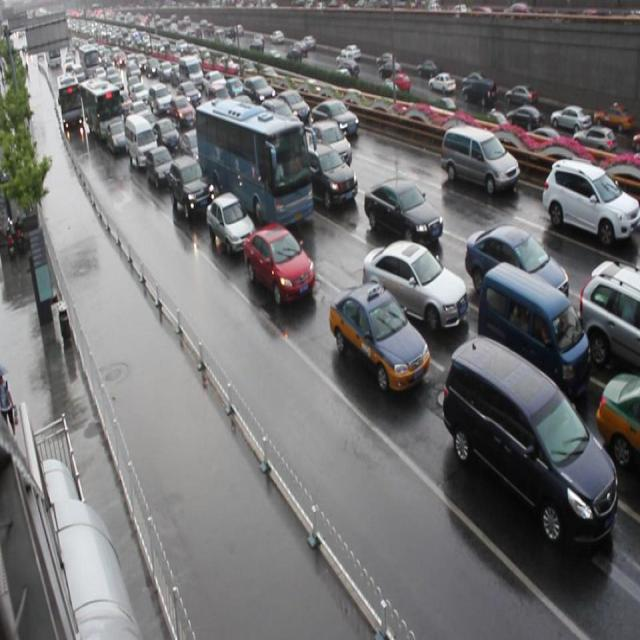car: (328, 282, 429, 392), (362, 239, 466, 331), (464, 224, 567, 309), (540, 157, 640, 244), (577, 260, 640, 374), (242, 224, 314, 303), (364, 178, 441, 245), (592, 372, 640, 468), (304, 144, 358, 207), (205, 190, 256, 253), (168, 154, 213, 218), (307, 119, 352, 170), (312, 98, 358, 139), (145, 146, 175, 190), (276, 87, 310, 123), (179, 129, 207, 164), (153, 118, 179, 152)
truck: (441, 334, 615, 544), (477, 262, 589, 399), (440, 124, 519, 194)
van: (196, 96, 313, 228)
